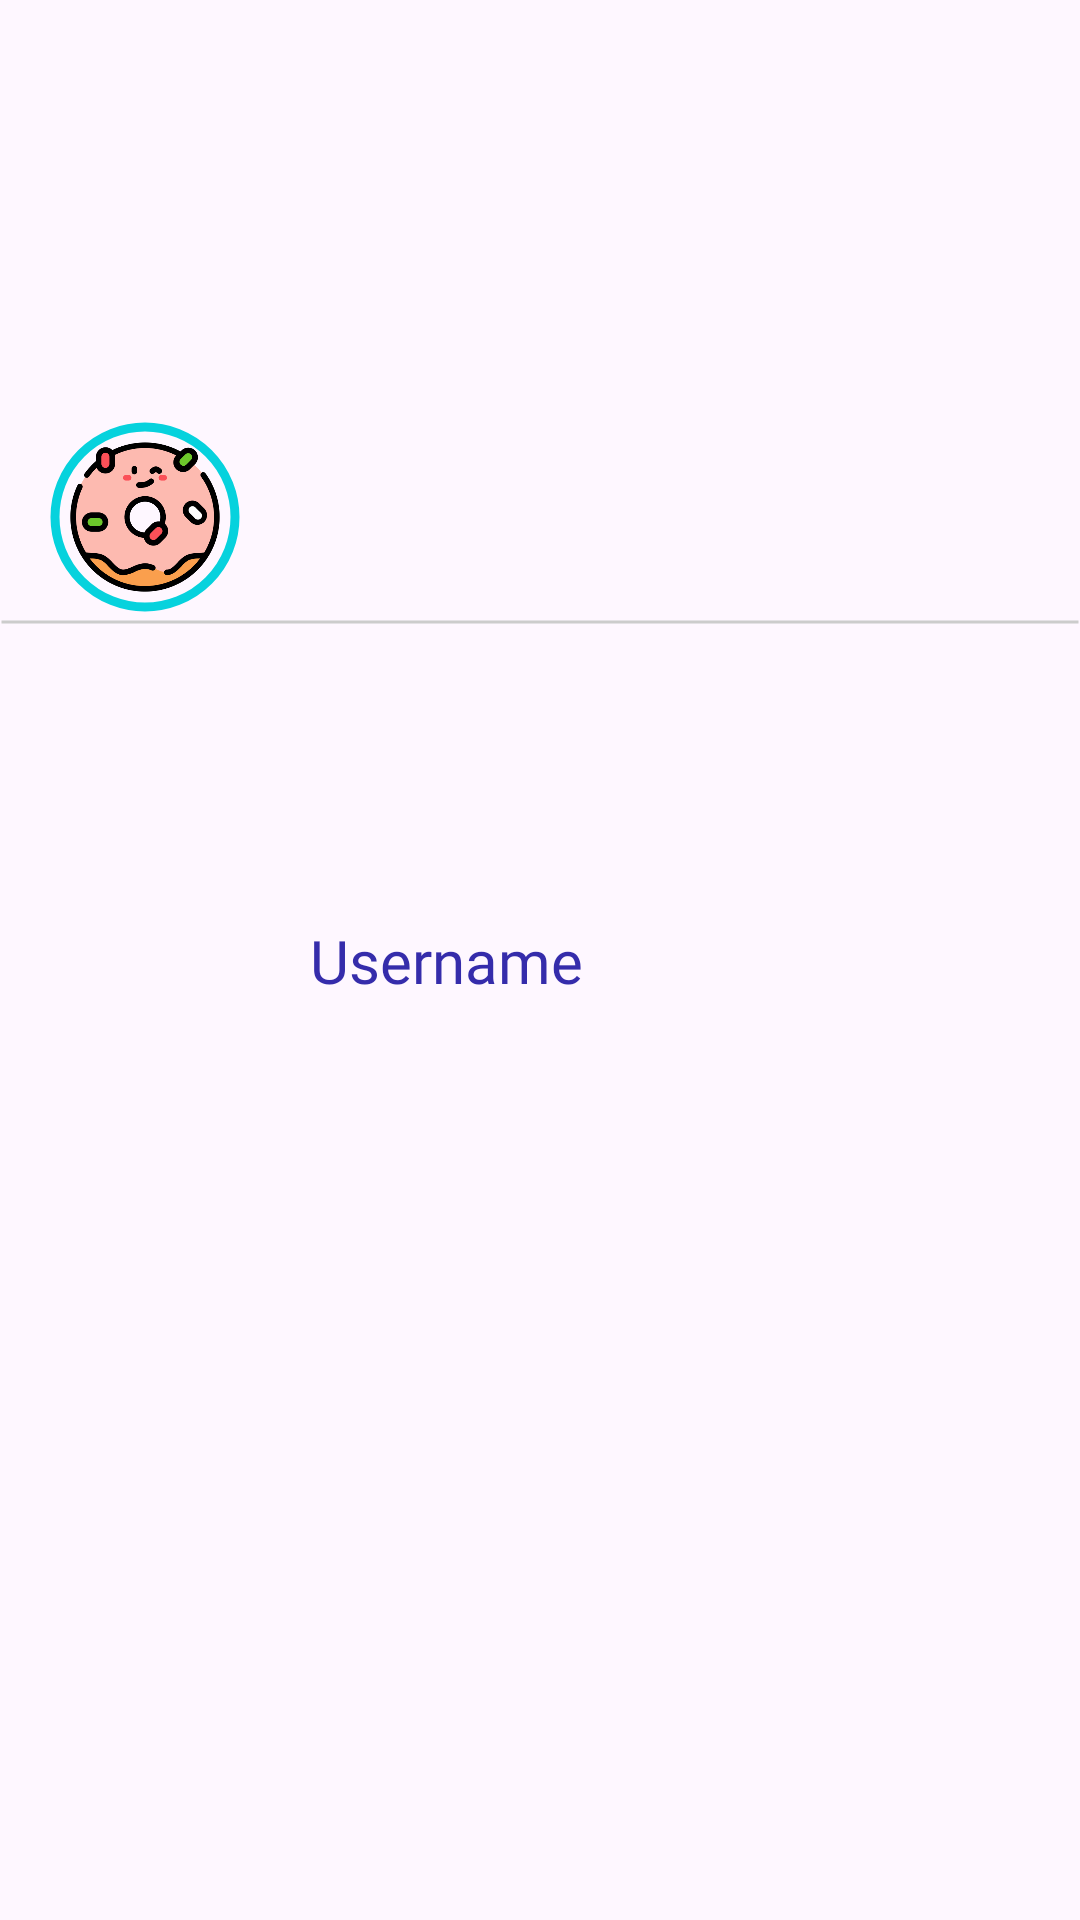

Named icons in this screenshot (1080×1920) and their bounding boxes, (x1, y1, x2, y2):
donut: (50, 422, 240, 612)
